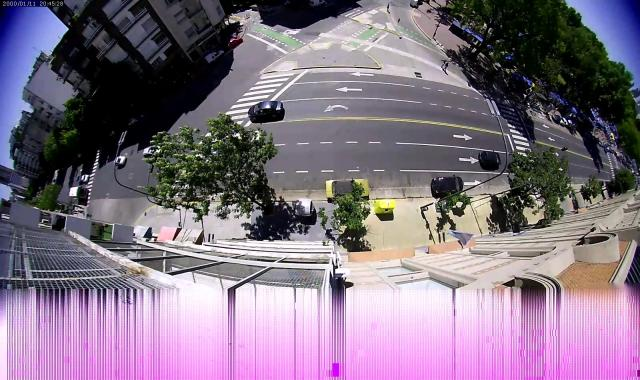bus: (69, 186, 88, 198)
car: (326, 179, 369, 198), (248, 101, 284, 119), (432, 176, 464, 194), (479, 151, 500, 165), (205, 50, 225, 64), (144, 145, 160, 158), (226, 37, 243, 49), (310, 0, 326, 7), (115, 157, 126, 166), (261, 6, 273, 12), (552, 115, 561, 121), (82, 175, 89, 182), (560, 118, 566, 125), (566, 120, 572, 127), (75, 176, 81, 182), (598, 142, 604, 146)
